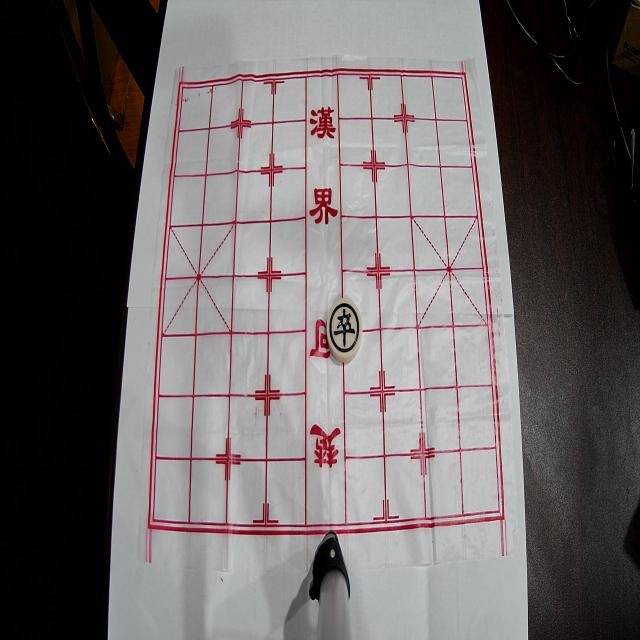black-soldier: (327, 298, 362, 362)
